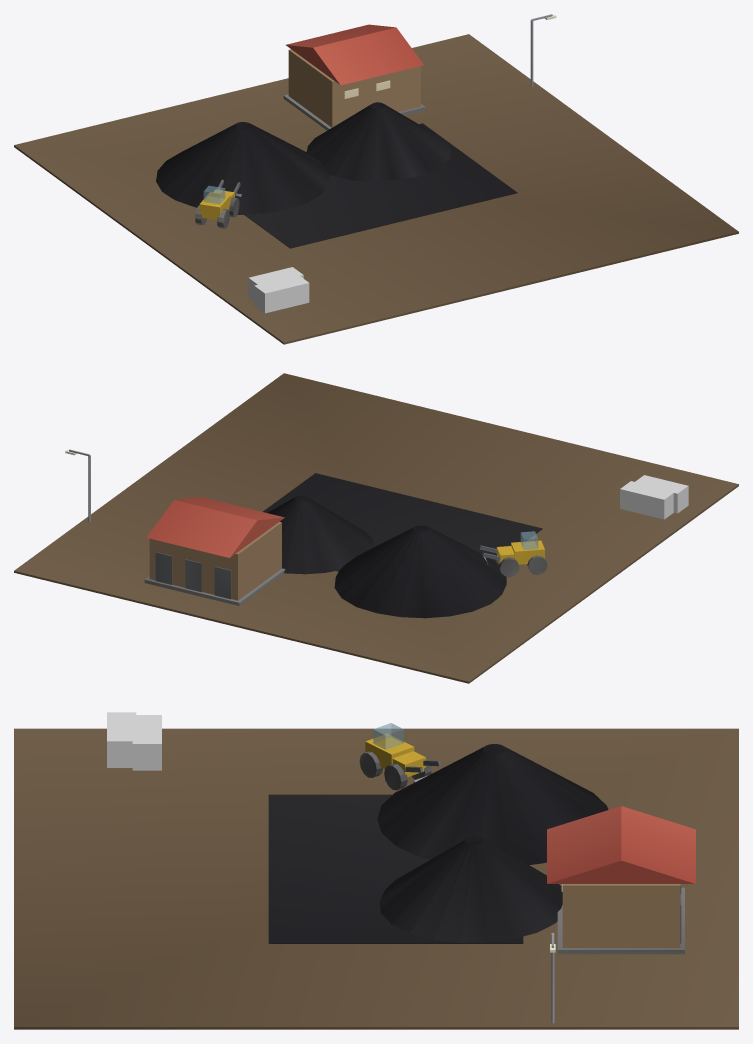
File: Depot_P1.fbx
3 renders of one model, top to bottom at view 1: azimuth 30°, elevation 25°; view 2: azimuth 150°, elevation 25°; view 3: azimuth 270°, elevation 25°, orthographic. The views are drawn at different scales.
Parts seen in each view (by area): view 1: Depot.Yard, Depot.Shed1, Depot.Pile0, Depot.Pile1, Depot.Containers, Depot.Loader; view 2: Depot.Yard, Depot.Shed1, Depot.Pile0, Depot.Pile1, Depot.Containers, Depot.Loader; view 3: Depot.Yard, Depot.Shed1, Depot.Pile0, Depot.Pile1, Depot.Containers, Depot.Loader.
Part boxes in pixels (x1,y1,x2,y2): Depot.Yard: (14,34,738,344); Depot.Shed1: (283,24,425,130); Depot.Pile0: (156,122,330,214); Depot.Pile1: (307,102,450,181); Depot.Containers: (248,267,309,313); Depot.Loader: (195,179,241,228); Depot.Yard: (14,373,738,683); Depot.Shed1: (144,497,285,605); Depot.Pile0: (334,525,506,618); Depot.Pile1: (267,496,373,574); Depot.Containers: (620,475,688,519); Depot.Loader: (479,531,547,576); Depot.Yard: (14,728,738,1029); Depot.Shed1: (547,806,695,954); Depot.Pile0: (377,744,608,864); Depot.Pile1: (379,836,562,942); Depot.Containers: (107,712,161,770); Depot.Loader: (359,723,441,790).
Size of the model in its own units: 7469 by 1045 by 7400.
